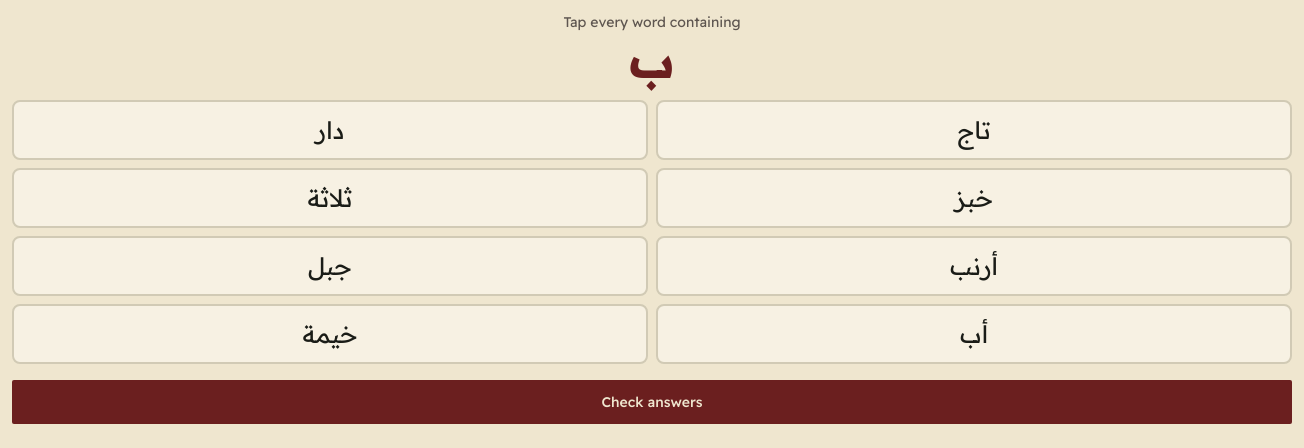
Test case: answering › takes no more taps once the answers are in
Step 1. Click the button "Check answers" → (652, 402), box top-left (12, 380), bottom-right (1292, 424)
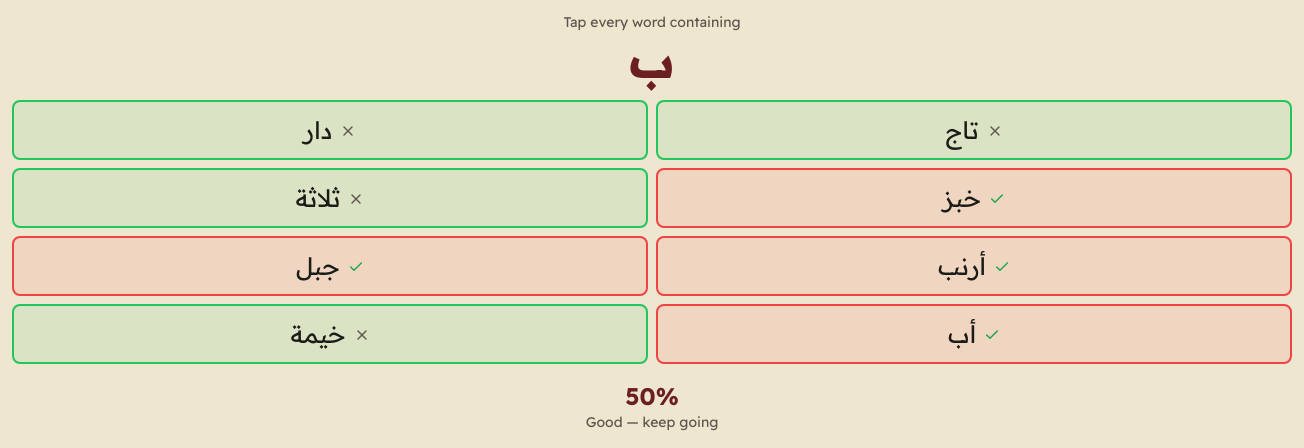
expect the button "دار" is disabled: met, box top-left (12, 100), bottom-right (648, 160)
expect the button "تاج" is disabled: met, box top-left (656, 100), bottom-right (1292, 160)
expect the button "ثلاثة" is disabled: met, box top-left (12, 168), bottom-right (648, 228)
